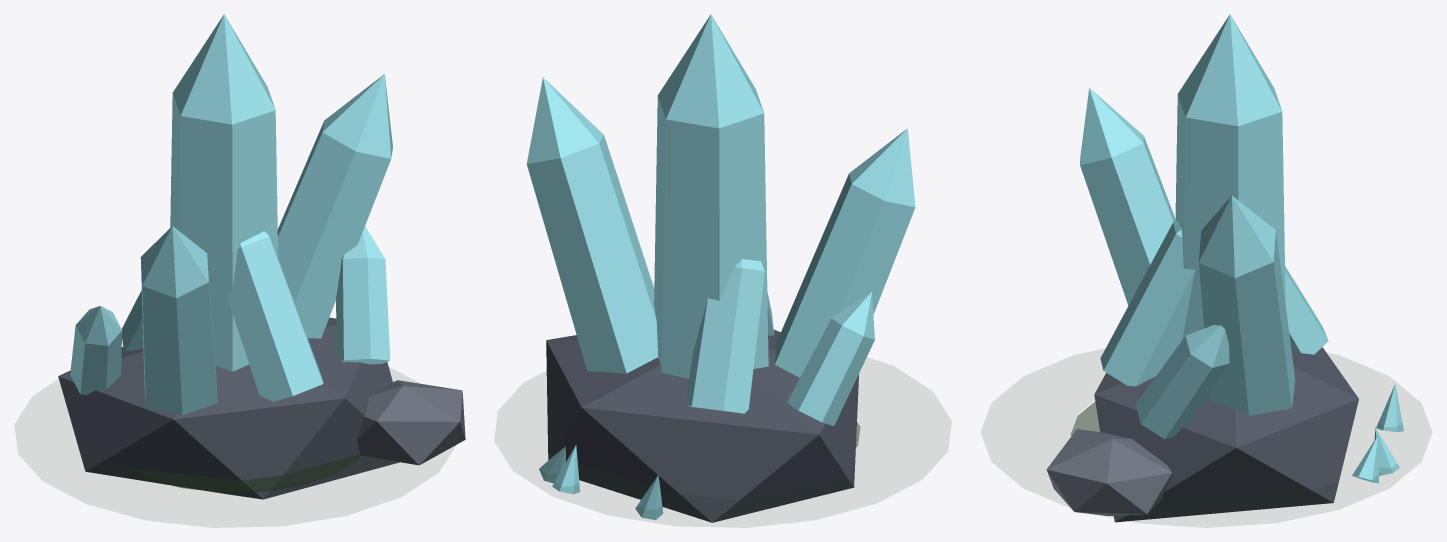
File: crystal_cluster.glb
The picture shows the model from 3 angles, left to right: view 1: azimuth 30°, elevation 25°; view 2: azimuth 150°, elevation 25°; view 3: azimuth 270°, elevation 25°; orthographic projection. The views are drawn at different scales.
Parts seen in each view (by area): view 1: crystal_cluster; view 2: crystal_cluster; view 3: crystal_cluster.
Part boxes in pixels (box(x1,y1,x2,y2)): crystal_cluster: box(58, 14, 465, 499); crystal_cluster: box(526, 14, 915, 522); crystal_cluster: box(1046, 14, 1403, 527).
Size of the model in its own units: 0.96 by 1.13 by 0.96.
